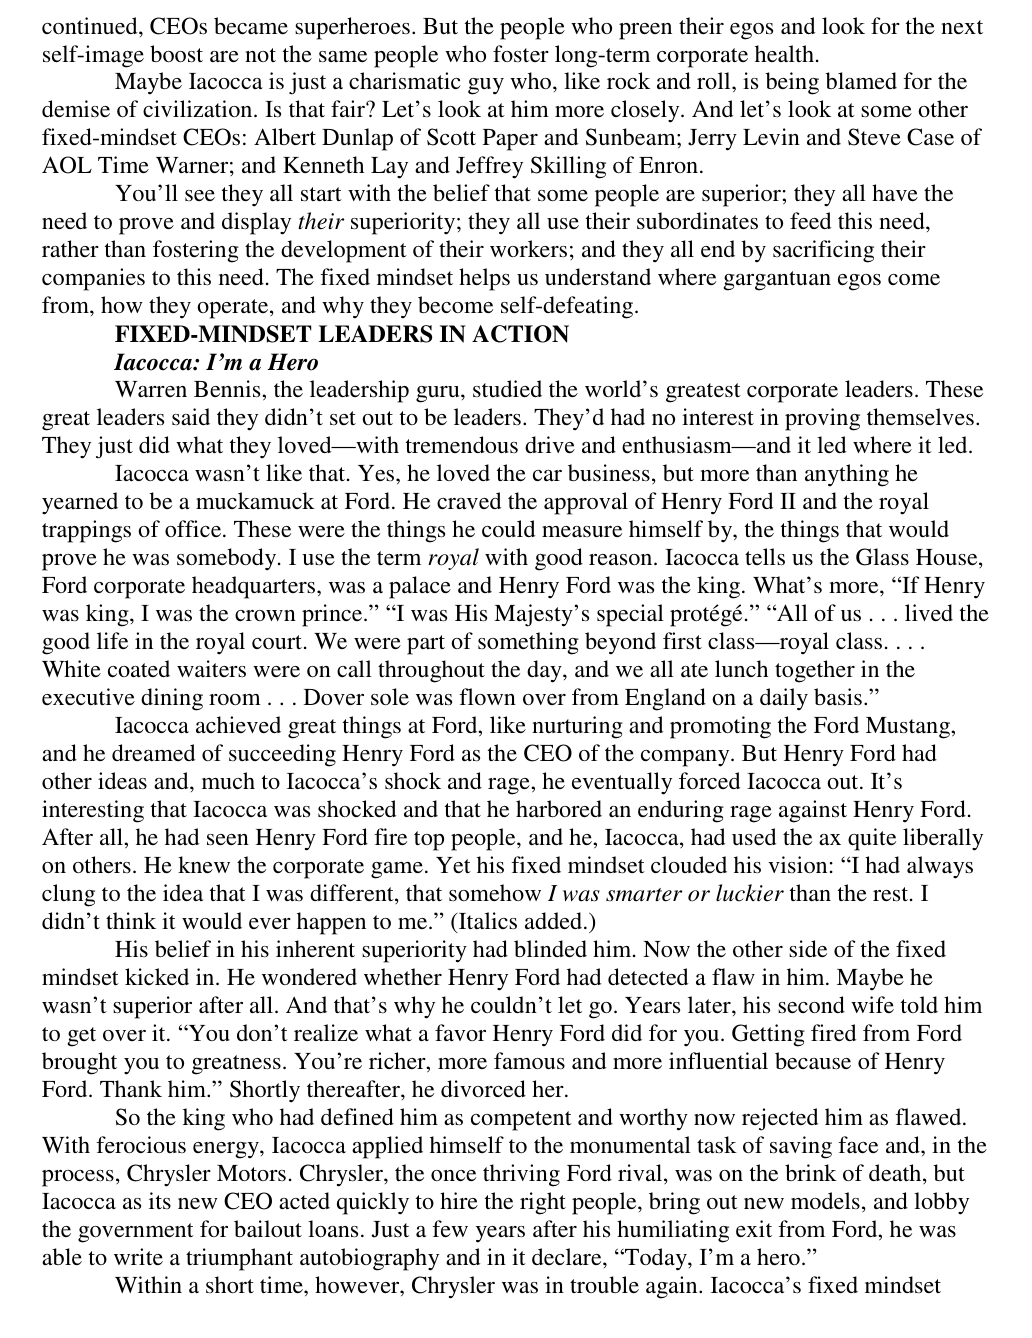latin: (34, 460, 994, 716), (28, 713, 986, 932), (33, 1104, 988, 1300), (37, 932, 984, 1104), (38, 17, 986, 180), (33, 178, 962, 323), (38, 345, 985, 458), (113, 323, 570, 345)
